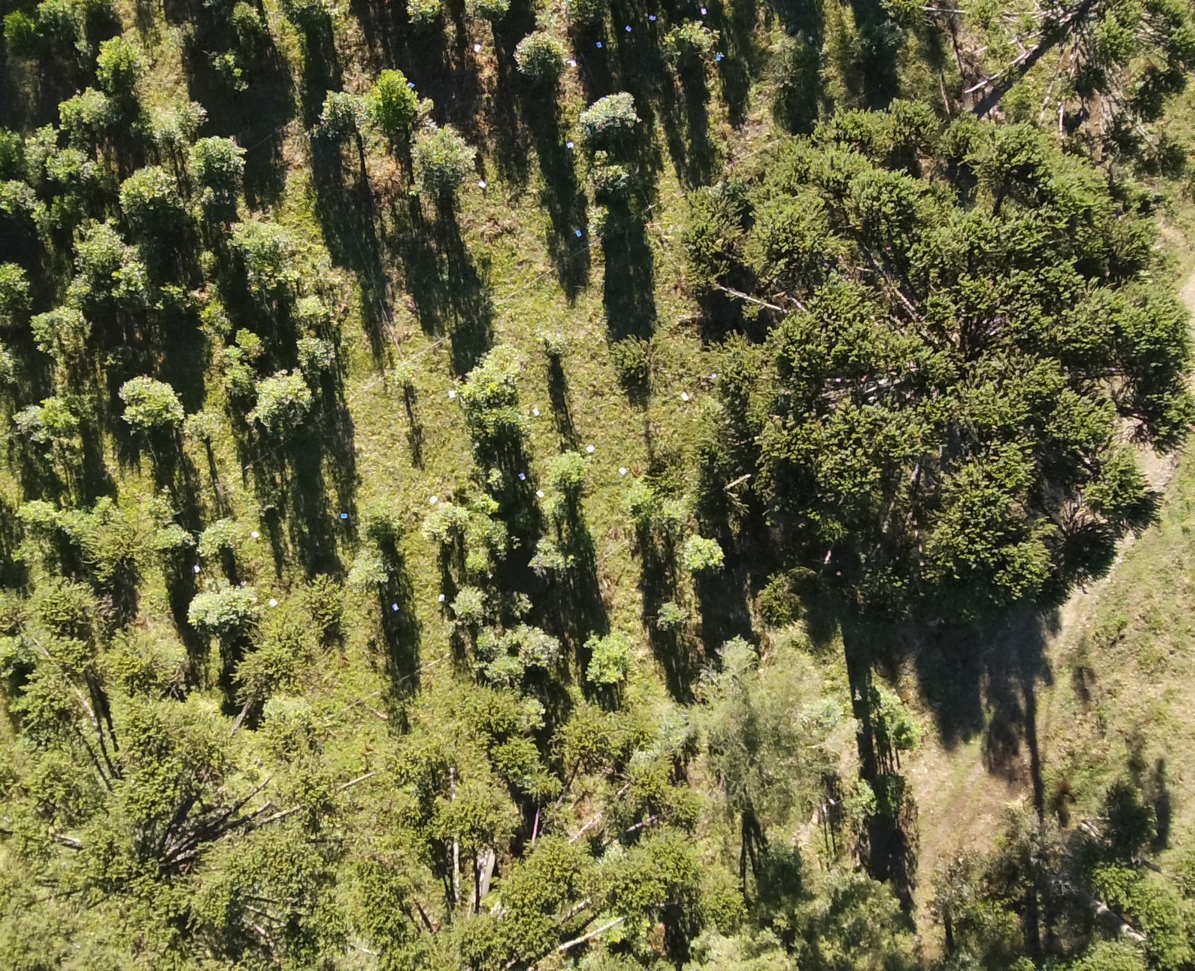erva: (408, 125, 479, 204), (178, 580, 260, 645), (236, 220, 312, 289), (187, 128, 255, 188), (48, 79, 116, 138), (338, 536, 401, 599), (582, 155, 650, 212), (657, 12, 725, 69), (97, 27, 155, 93), (245, 376, 310, 433), (582, 630, 641, 692), (124, 376, 184, 436), (579, 93, 642, 150), (114, 170, 176, 226), (462, 346, 518, 408), (364, 66, 412, 134), (27, 308, 90, 356), (0, 179, 54, 234), (10, 122, 59, 179), (462, 515, 508, 575), (510, 30, 571, 75), (420, 500, 468, 557), (536, 318, 578, 383), (313, 90, 368, 138), (0, 255, 41, 318), (194, 511, 249, 557), (291, 289, 348, 332), (74, 229, 131, 272), (680, 524, 721, 581), (193, 294, 240, 342), (31, 0, 87, 40), (513, 624, 568, 664), (532, 530, 572, 584), (116, 258, 151, 318), (447, 588, 494, 632), (290, 331, 345, 367), (232, 330, 278, 373), (220, 7, 267, 49), (46, 145, 92, 187), (620, 484, 662, 530), (478, 655, 532, 690), (187, 412, 225, 461), (651, 599, 693, 642), (205, 51, 246, 94), (57, 261, 95, 307), (550, 445, 585, 493), (75, 143, 111, 189), (215, 362, 255, 402), (395, 0, 454, 26), (468, 624, 514, 657), (470, 0, 515, 28), (474, 459, 506, 496), (202, 345, 239, 375)
